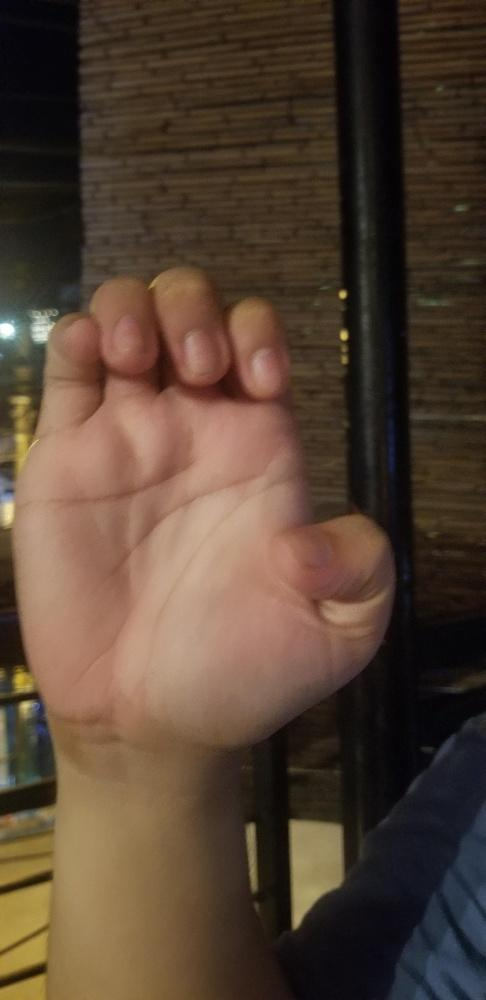e: (9, 263, 394, 751)
